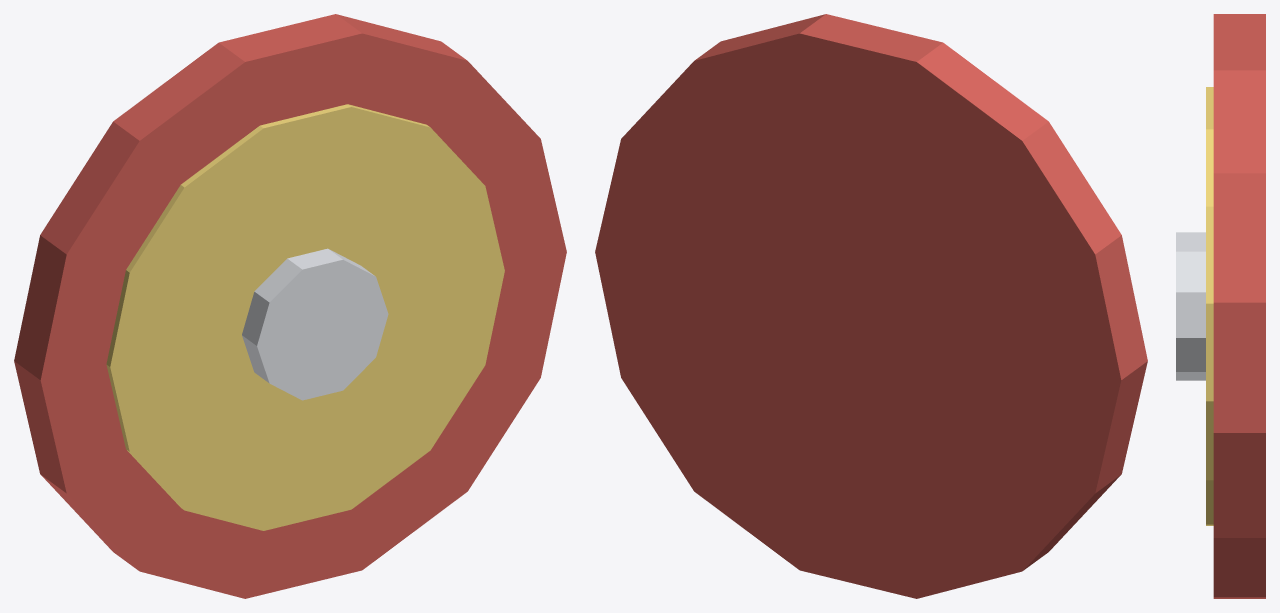
File: shield_wall.glb
3 renders of one model, left to right at view 1: azimuth 30°, elevation 25°; view 2: azimuth 150°, elevation 25°; view 3: azimuth 270°, elevation 25°, orthographic.
Visible parts, largest first — view 1: shield, shield_ring, shield_boss; view 2: shield; view 3: shield, shield_boss, shield_ring.
Boxes of the visible parts, left/top/right/bottom form: shield: left=14, top=14, right=566, bottom=598; shield_ring: left=106, top=104, right=504, bottom=530; shield_boss: left=242, top=248, right=388, bottom=400; shield: left=595, top=14, right=1147, bottom=598; shield: left=1213, top=14, right=1265, bottom=598; shield_boss: left=1176, top=232, right=1205, bottom=380; shield_ring: left=1206, top=87, right=1213, bottom=525.
Size of the model in its own units: 0.8 by 0.7799 by 0.12.
